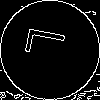L: (25, 25, 75, 62)
